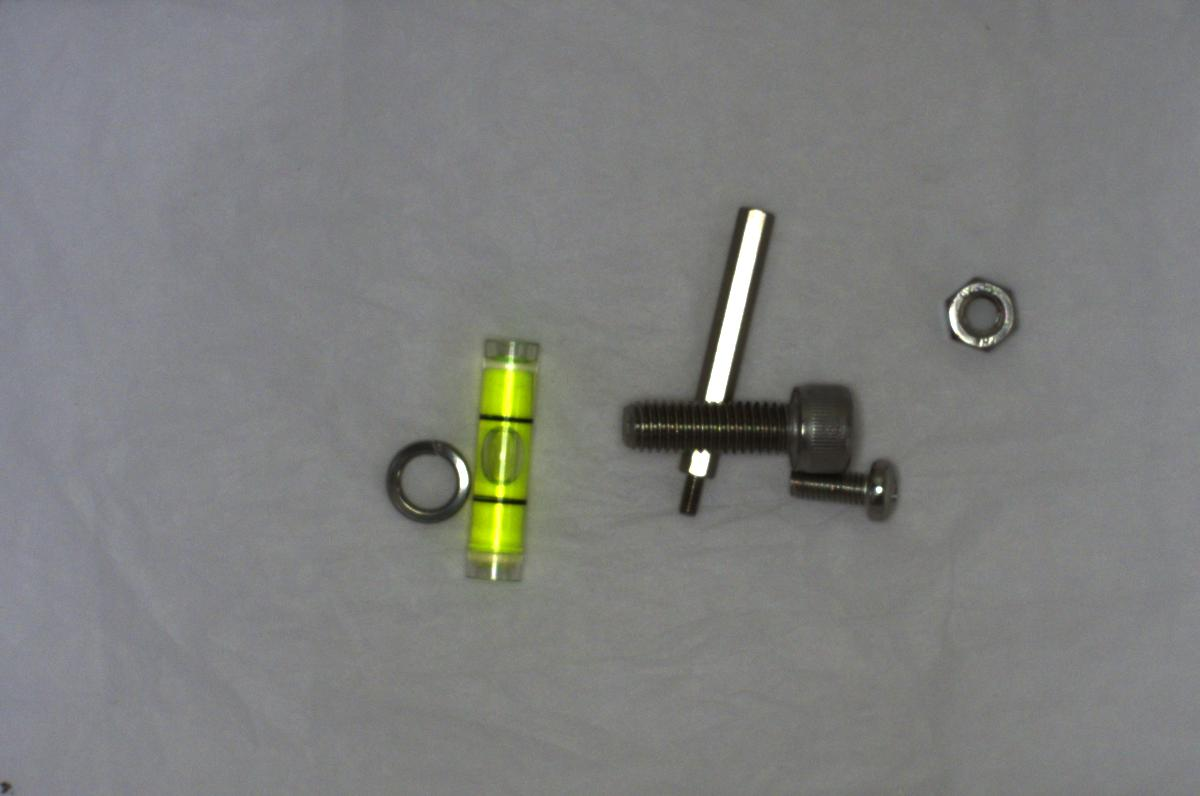Hexagon nut: (938, 264, 1028, 358)
Hexagon screw: (615, 381, 867, 482)
Hexagonal steel column: (652, 196, 774, 527)
Horizontal bubble: (446, 324, 556, 591)
Round head screw: (775, 458, 912, 522)
Spring washer: (374, 427, 471, 528)
